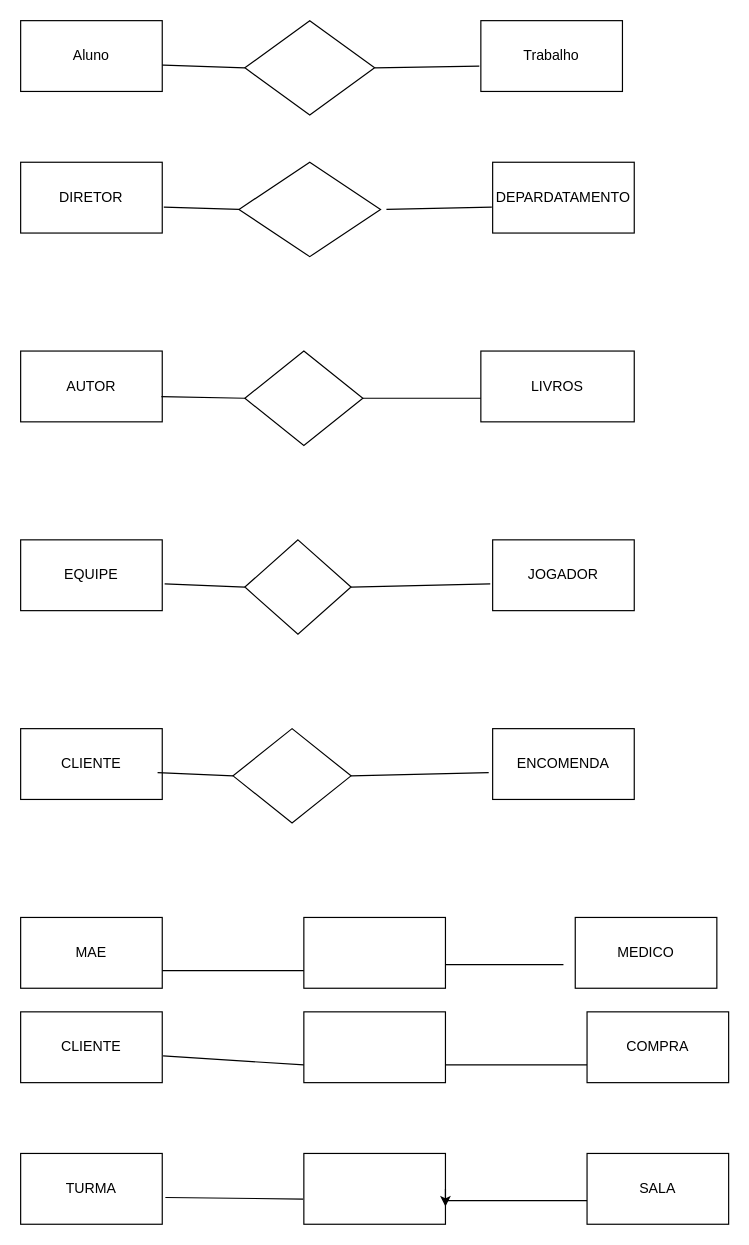
Image size: 749x1245. Some labels were removed from this diagram. The box of each missing label's shape, as (x1, y1, x2, y2) in pixels:
BEBE: (303, 916, 445, 988)
composta: (244, 539, 351, 634)
escrever: (244, 350, 363, 445)
máximo: (238, 161, 381, 257)
PRODUTO: (303, 1011, 445, 1083)
PROFESSOR: (303, 1152, 445, 1224)
realiza: (232, 727, 351, 823)
realizar: (244, 19, 375, 115)
